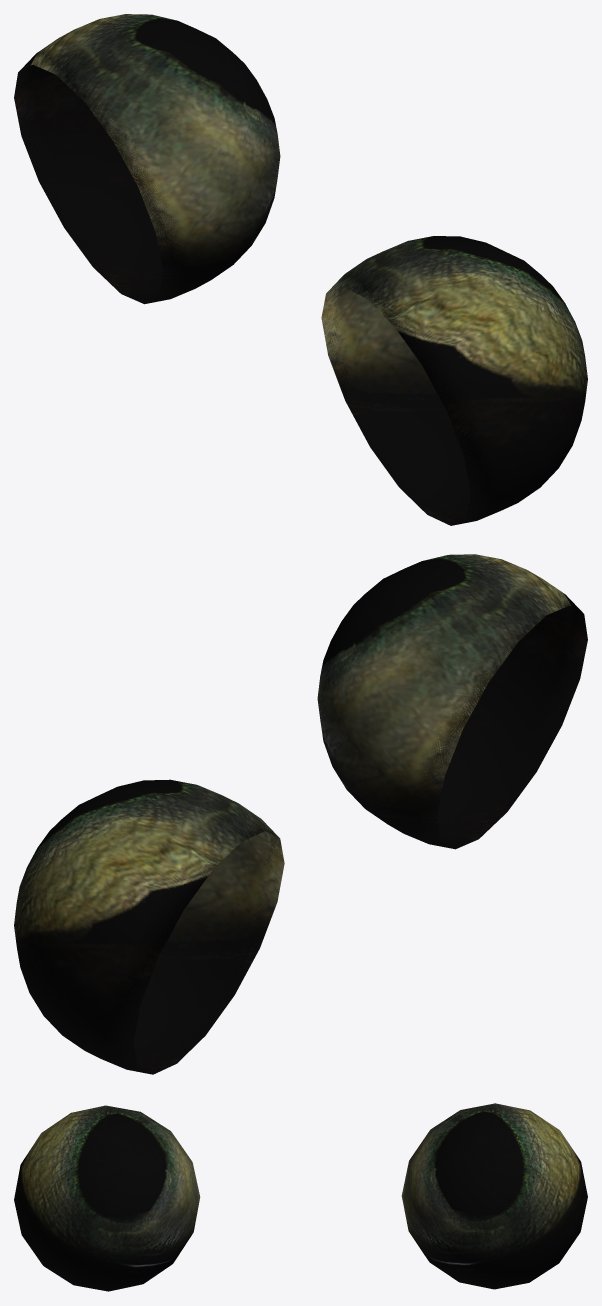
Rendered from black_cat_eyes.obj.
3 renders of one model, top to bottom at view 1: azimuth 30°, elevation 25°; view 2: azimuth 150°, elevation 25°; view 3: azimuth 270°, elevation 25°, orthographic. The views are drawn at different scales.
Visible parts, largest first — view 1: Object_14; view 2: Object_14; view 3: Object_14.
Boxes of the visible parts, bbox=[...] form: Object_14: bbox=[14, 14, 587, 525]; Object_14: bbox=[14, 554, 587, 1074]; Object_14: bbox=[14, 1103, 587, 1291].
Bounding box in the file's own units: 0.9364 × 1.13 × 3.49.
Materials: 1 (1 with a texture image).
